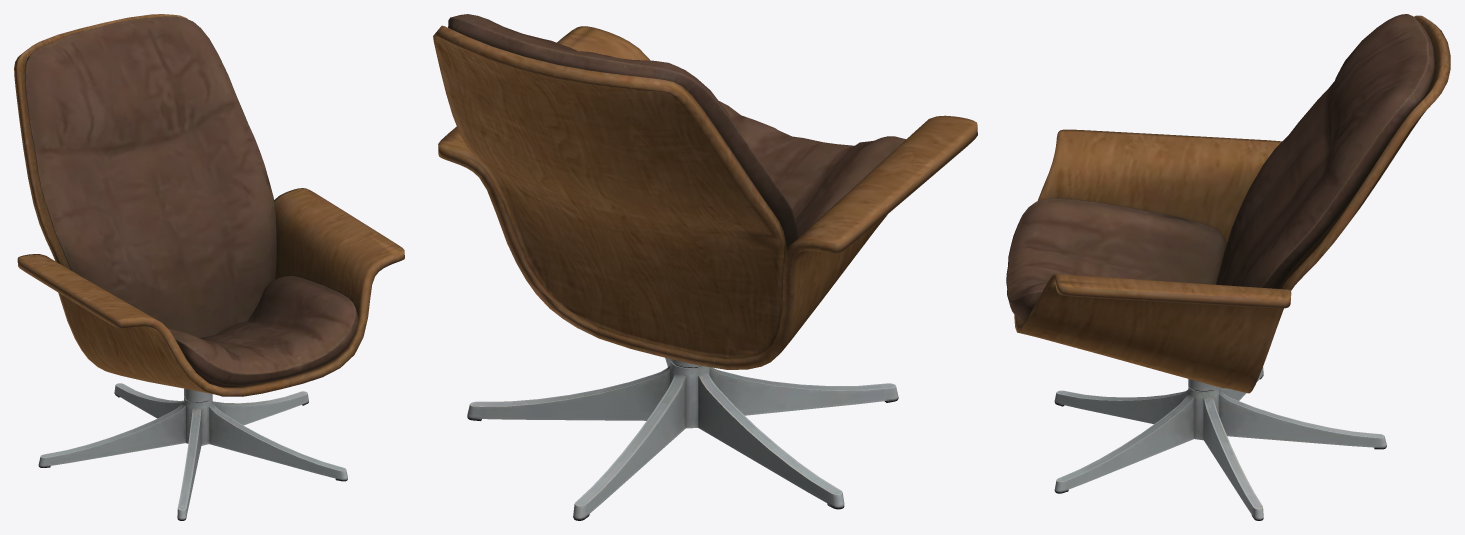
The model's file is mid_century_lounge_chair.glb.
3 renders of one model, left to right at view 1: azimuth 30°, elevation 25°; view 2: azimuth 150°, elevation 25°; view 3: azimuth 270°, elevation 25°, orthographic. The views are drawn at different scales.
Visible parts, largest first — view 1: mid_century_lounge_chair; view 2: mid_century_lounge_chair; view 3: mid_century_lounge_chair.
Part boxes in pixels (x1=…): mid_century_lounge_chair: x1=14, y1=14, x2=404, y2=520; mid_century_lounge_chair: x1=433, y1=14, x2=977, y2=520; mid_century_lounge_chair: x1=1006, y1=14, x2=1450, y2=520.
Size of the model in its own units: 1.01 by 1.17 by 1.19.
1 material, 1 textured.
